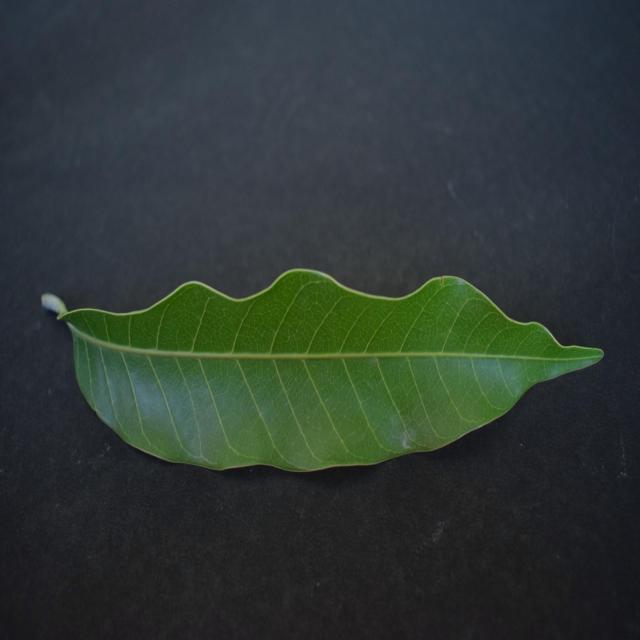healthy: (43, 269, 602, 470)
